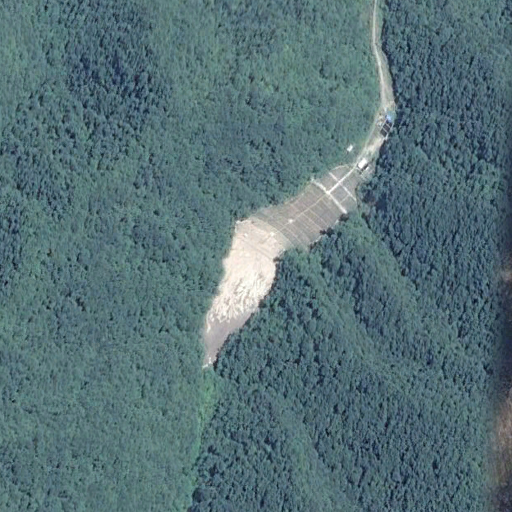tp: (204, 166, 366, 367)
